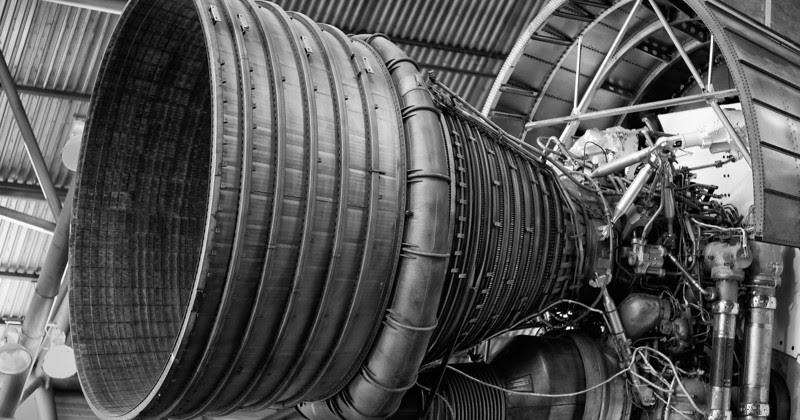thruster: (70, 0, 568, 420)
